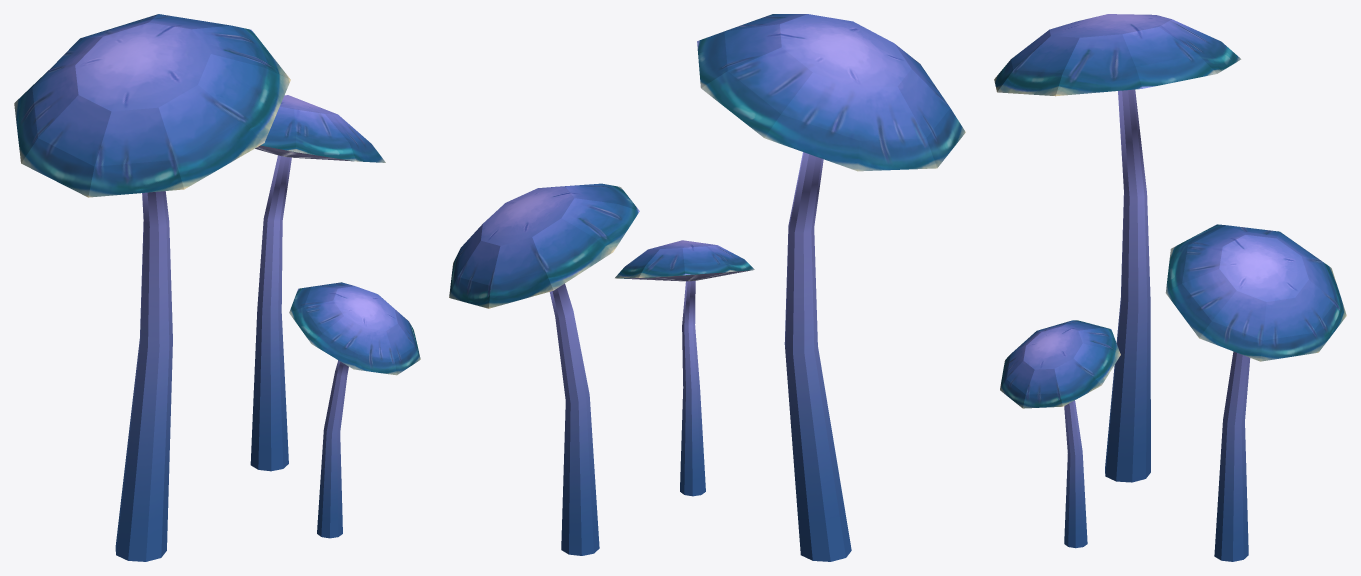
Rendered from env mushroom.fbx.
3 views of the same model, side by side, from view 1: azimuth 30°, elevation 25°; view 2: azimuth 150°, elevation 25°; view 3: azimuth 270°, elevation 25° (orthographic). The views are drawn at different scales.
Visible parts, largest first — view 1: polySurface5; view 2: polySurface5; view 3: polySurface5.
Boxes of the visible parts, box(x1,y1,x2,y2) form: polySurface5: box(14, 14, 420, 561); polySurface5: box(449, 14, 965, 561); polySurface5: box(994, 14, 1346, 561).
Bounding box in the file's own units: 13.12 × 15.54 × 10.8.
Materials: 1 (1 with a texture image).
